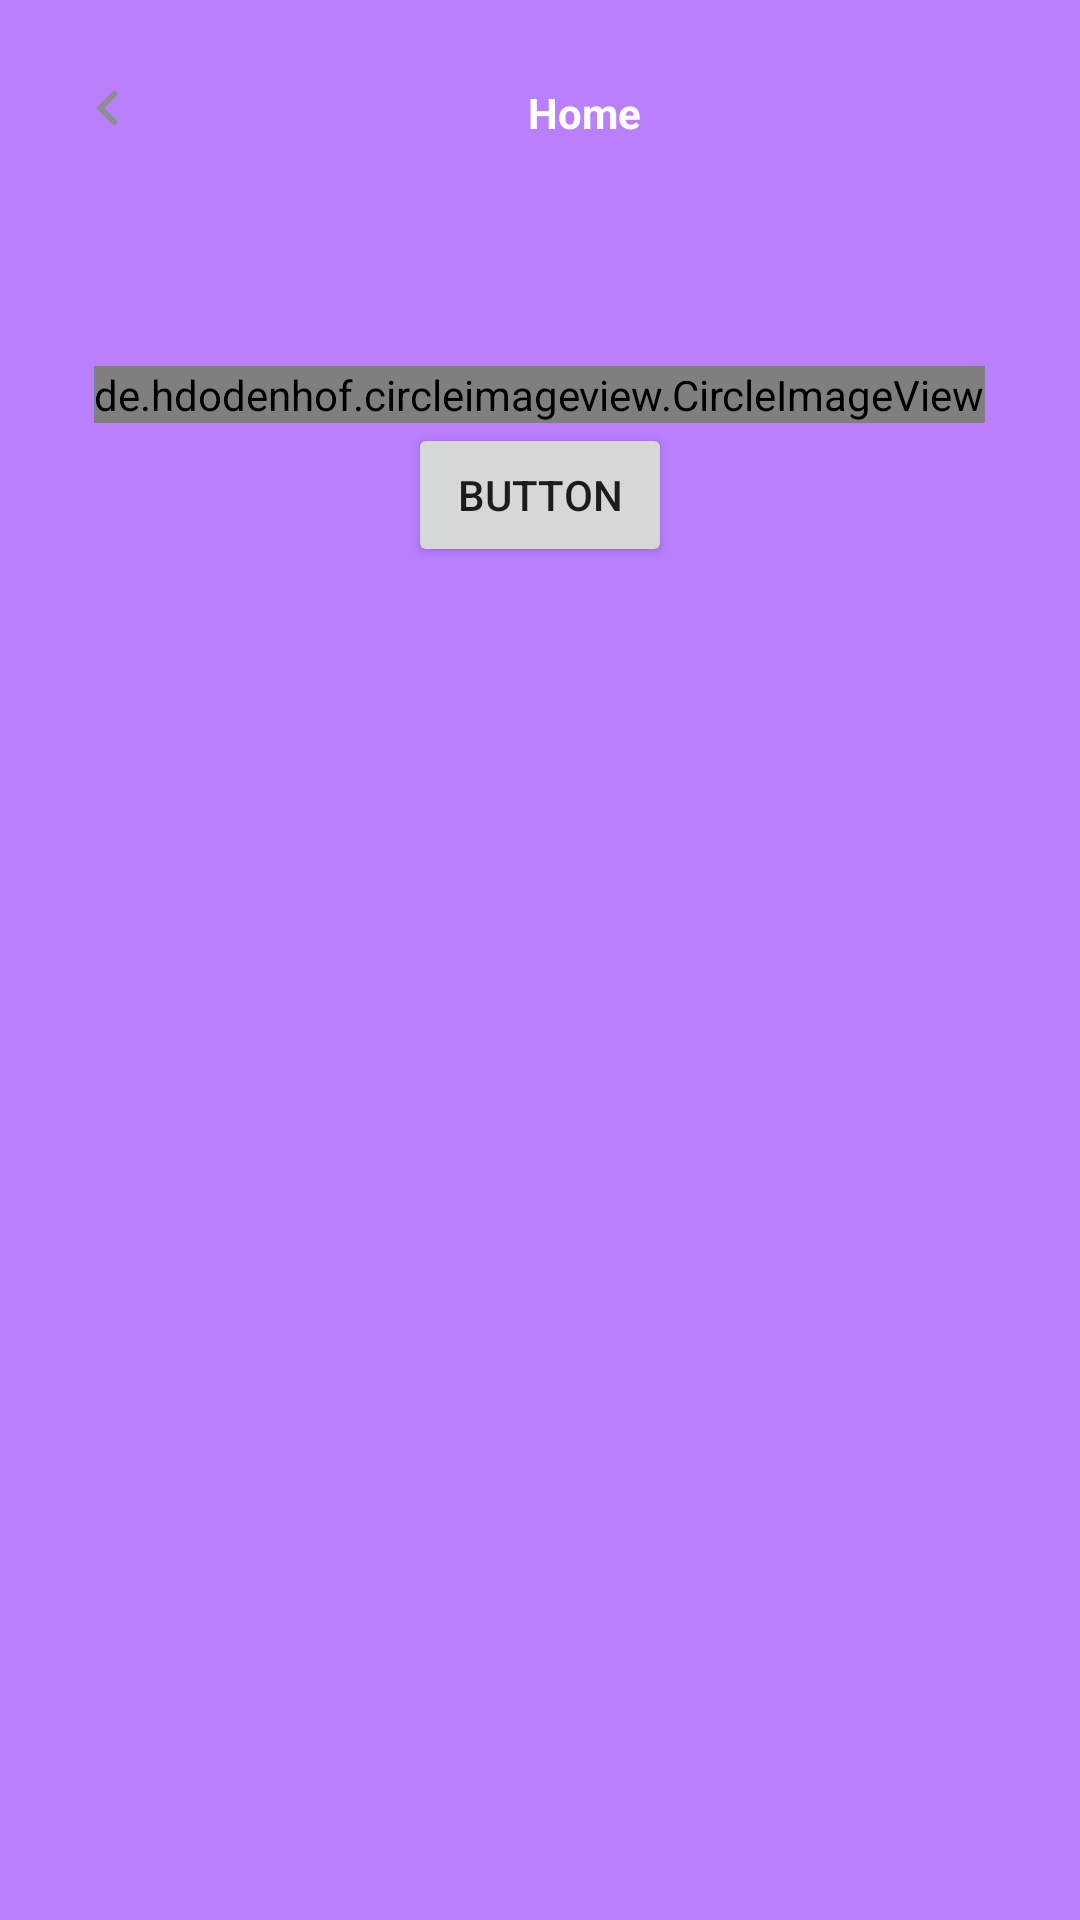

Locate icon controls on the screen. Image size 1080x1920, boxes as [left=x1, top=y1, right=x2, bottom=y2].
keyboard arrow left: [left=96, top=90, right=118, bottom=126]
